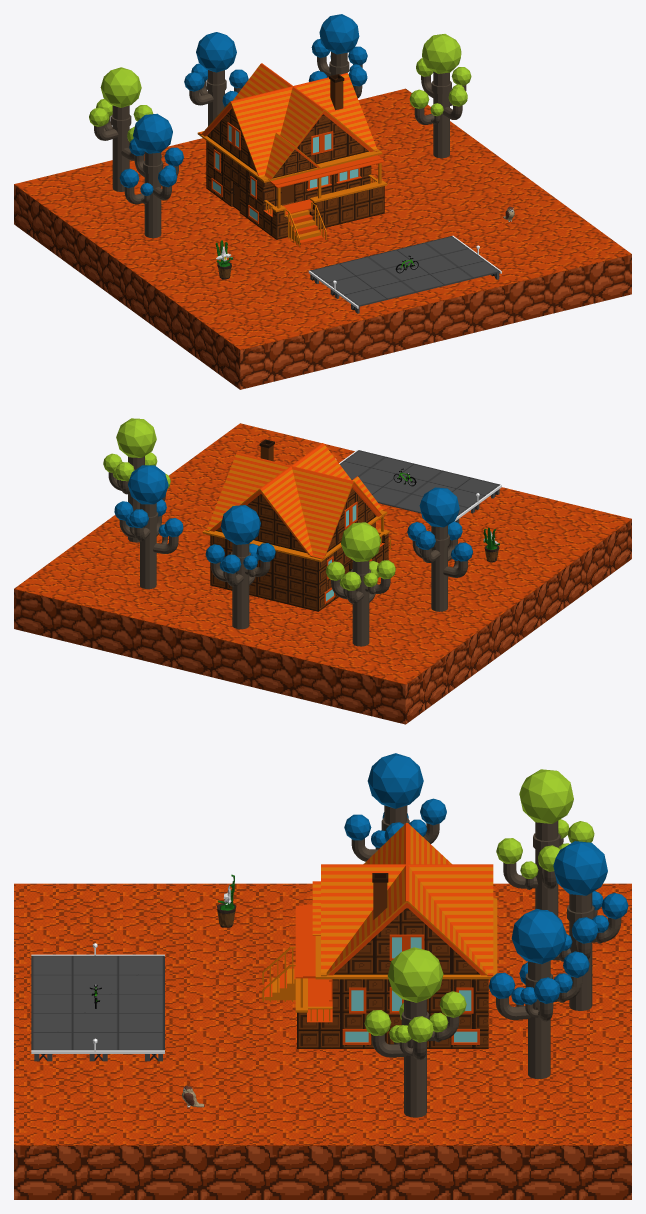
The picture shows the model from 3 angles, top to bottom: view 1: azimuth 30°, elevation 25°; view 2: azimuth 150°, elevation 25°; view 3: azimuth 270°, elevation 25°; orthographic projection. The views are drawn at different scales.
Parts seen in each view (by area): view 1: Cube.001, Cube; view 2: Cube.001, Cube; view 3: Cube.001, Cube.
Boxes of the visible parts, left/top/right/bottom form: Cube.001: left=14, top=14, right=631, bottom=389; Cube: left=197, top=63, right=387, bottom=246; Cube.001: left=14, top=418, right=631, bottom=724; Cube: left=202, top=439, right=390, bottom=611; Cube.001: left=14, top=753, right=631, bottom=1199; Cube: left=262, top=823, right=497, bottom=1048.
Bounding box in the file's own units: 4000 × 1680 × 4000.
33 materials, 5 textured.
